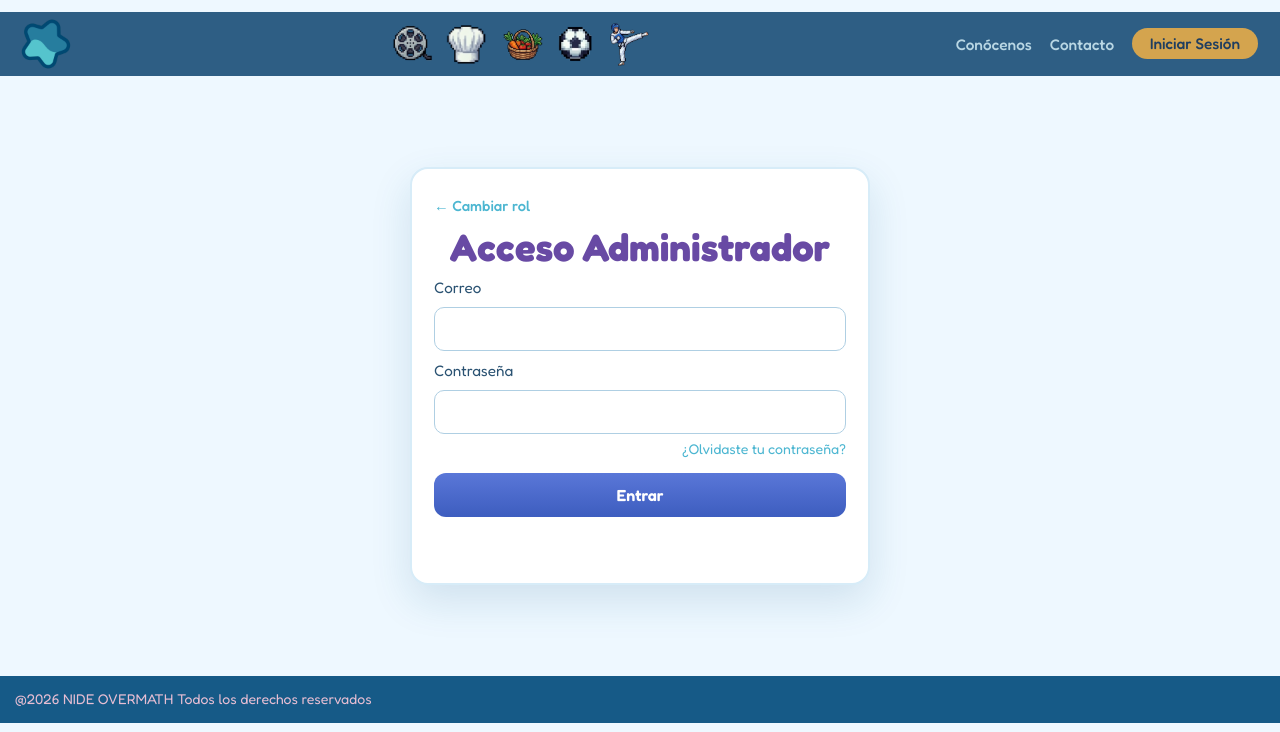
Scenario: LoginPage › hace login exitoso como admin y redirige a /admin
This screenshot has width=1280, height=732.
Type "admin@test.com" into the field labelled "Correo".
click(640, 329); type("admin@test.com")  # box [434,307,846,351]
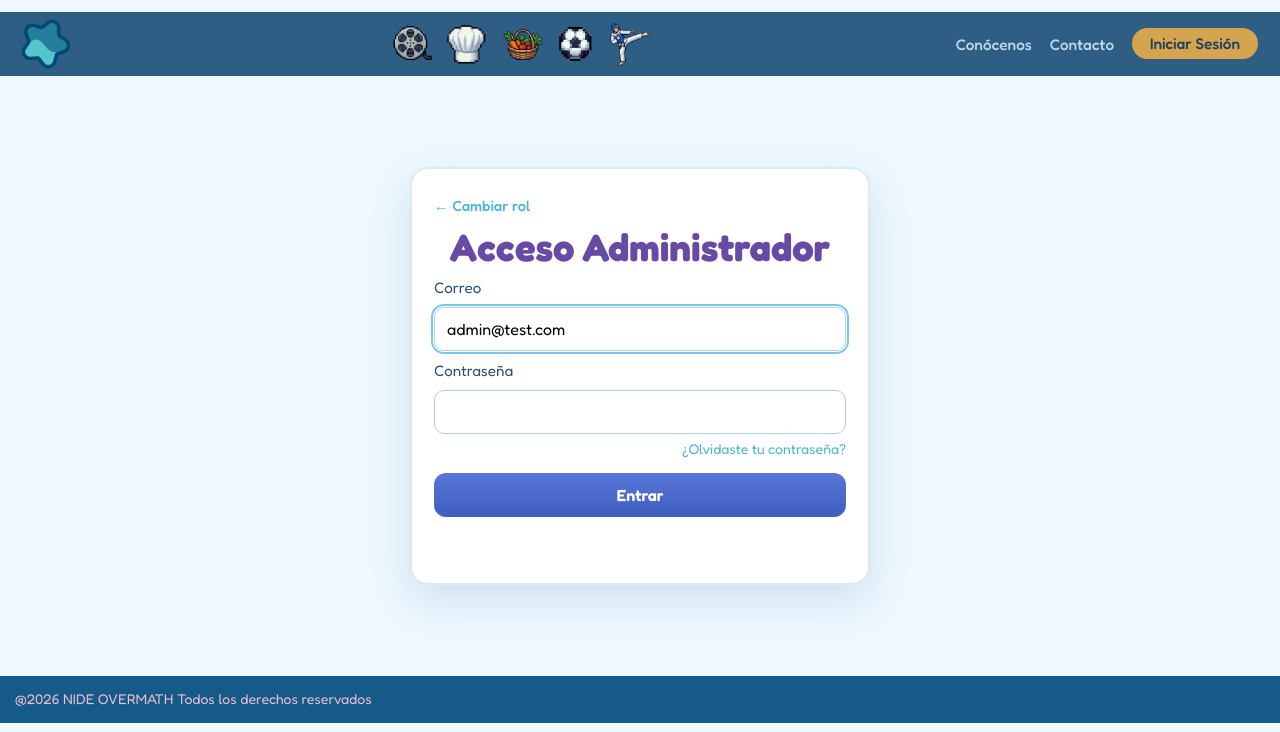
Type "adminpass123" into the password field labelled "Contraseña".
click(640, 412); type("adminpass123")  # box [434,390,846,434]
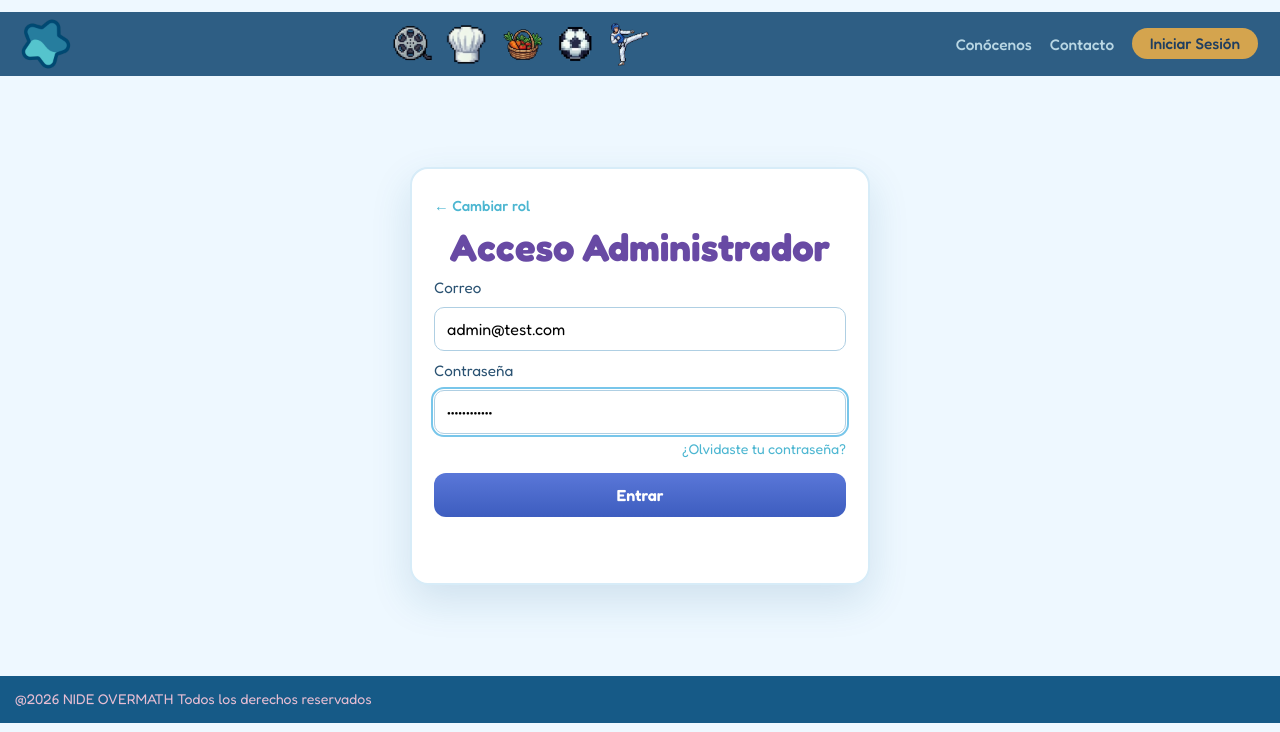
Click the button "Entrar".
click(640, 495)  # box [434,473,846,517]
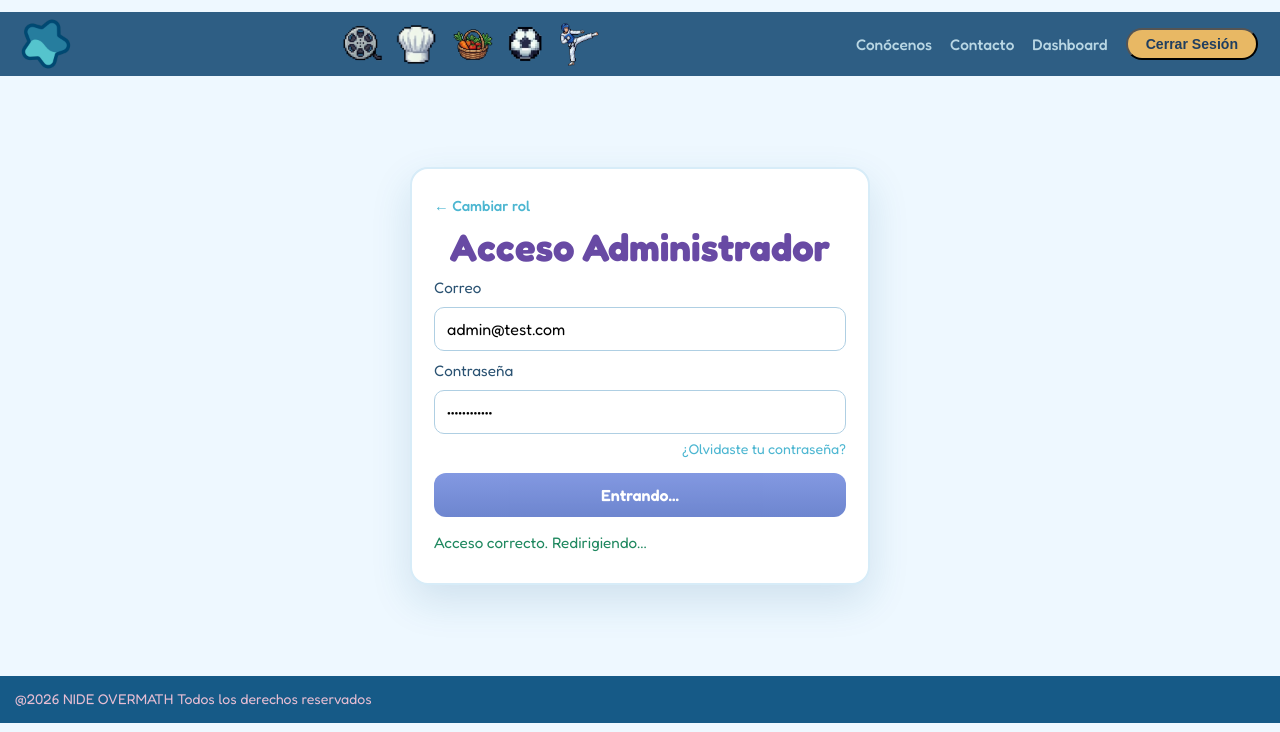
Now the message reads "Acceso correcto. Redirigiendo...", box [434,533,647,552]
